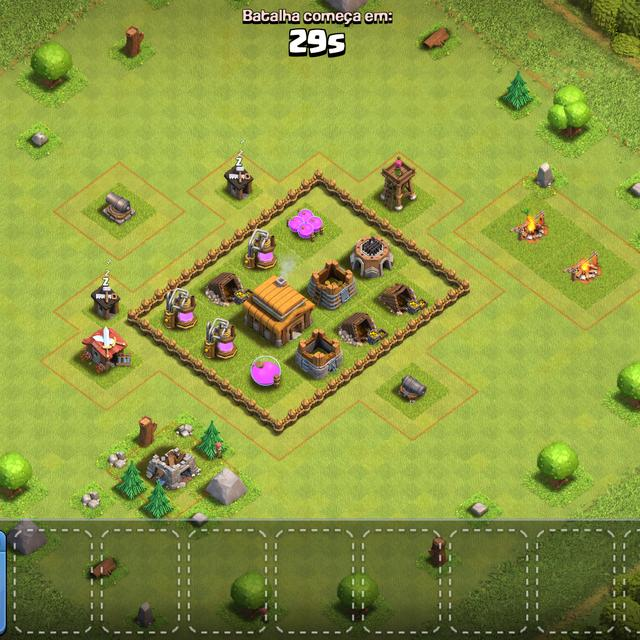Arqueira: (380, 157, 416, 212)
Canhao: (102, 193, 136, 225), (396, 374, 428, 404)
